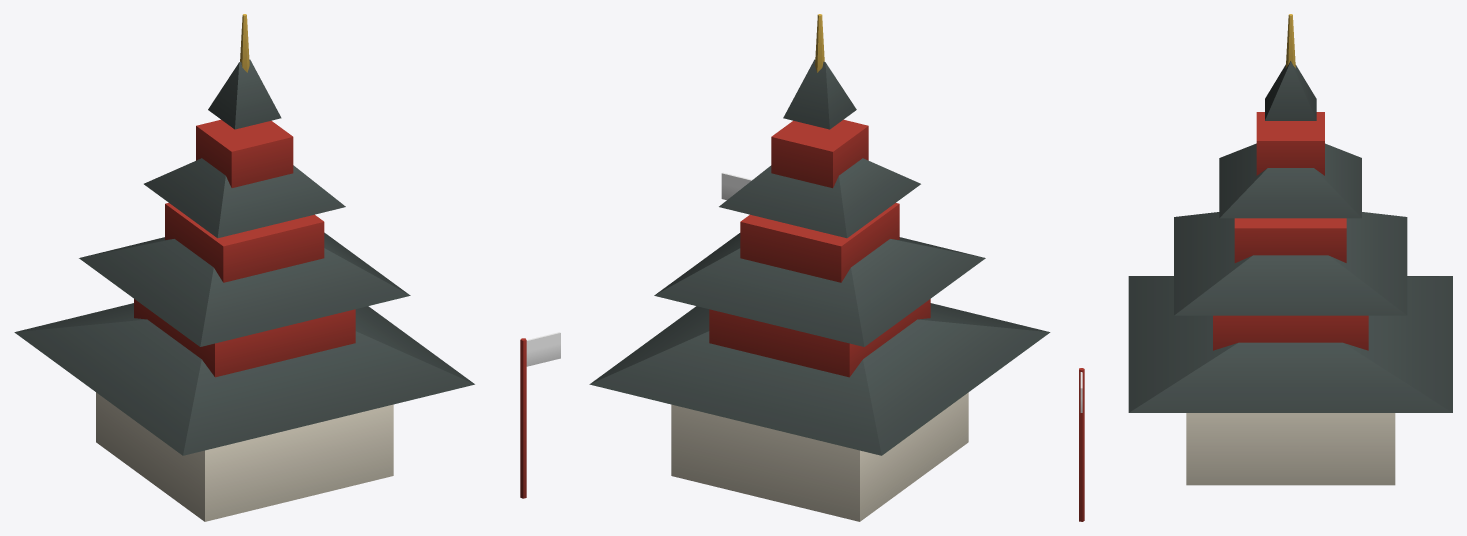
Rendered from BASE_CHINESE.glb.
3 renders of one model, left to right at view 1: azimuth 30°, elevation 25°; view 2: azimuth 150°, elevation 25°; view 3: azimuth 270°, elevation 25°, orthographic. The views are drawn at different scales.
Visible parts, largest first — view 1: Body, Flag; view 2: Body; view 3: Body.
Boxes of the visible parts, x1,y1,x2,y2 form: Body: (14,14,526,521); Flag: (526,332,560,366); Body: (589,14,1050,521); Body: (1079,14,1452,521).
Bounding box in the file's own units: 3.74 × 4.5 × 3.57.
1 material, 1 textured.
